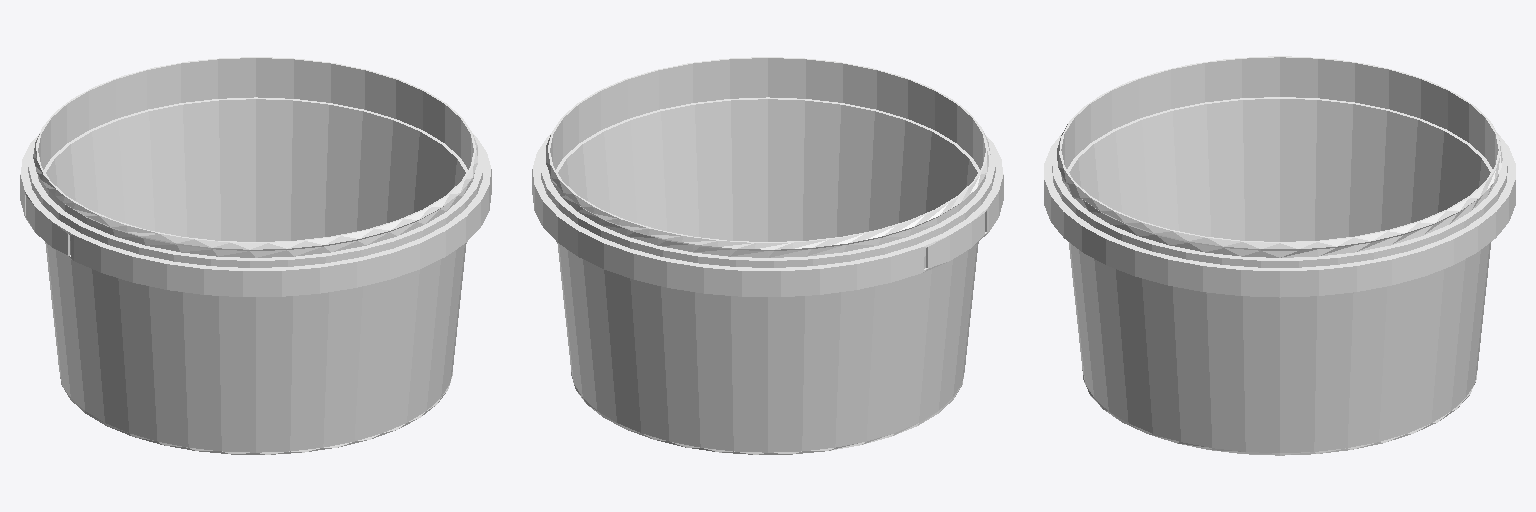
robot.urdf — Container.SLDPRT:
<?xml version="1.0" encoding="utf-8"?>
<!-- This URDF was automatically created by SolidWorks to URDF Exporter! Originally created by [author] ([email redacted]) 
     Commit Version: 1.5.1-0-g916b5db  Build Version: 1.5.7152.31018
     For more information, please see http://wiki.ros.org/sw_urdf_exporter -->
<robot
  name="Container.SLDPRT">
  <link
    name="Container.SLDPRT">
    <inertial>
      <origin
        xyz="8.2775E-05 -7.24179999999871E-06 0.020982"
        rpy="0 0 0" />
      <mass
        value="0.023531" />
      <inertia
        ixx="4.3043E-05"
        ixy="-9.8493E-09"
        ixz="-4.7484E-08"
        iyy="4.2931E-05"
        iyz="-4.15429999999875E-09"
        izz="6.3345E-05" />
    </inertial>
    <visual>
      <origin
        xyz="0 0 0"
        rpy="1.5707963267949 0 0" />
      <geometry>
        <mesh
          filename="meshes/container/Container.SLDPRT.STL" />
      </geometry>
      <material
        name="transparent">
        <color
          rgba="1 1 1 0.32" />
        <texture
          filename="meshes/textures/" />
      </material>
    </visual>
    <collision>
      <origin
        xyz="0 0 0"
        rpy="1.5707963267949 0 0" />
      <geometry>
        <mesh
          filename="meshes/container/Container.SLDPRT.STL" />
      </geometry>
    </collision>
  </link>
</robot>

--- What the picture shows (computed from the rendered views, not written in the file) ---
Views: 3 orthographic renders of the robot side by side, from view 1: azimuth 30°, elevation 25°; view 2: azimuth 150°, elevation 25°; view 3: azimuth 270°, elevation 25°.
Model Container.SLDPRT with 1 links and 0 joints (none), rooted at Container.SLDPRT, posed all joints at 0.
Links seen in each view (by area): view 1: Container.SLDPRT; view 2: Container.SLDPRT; view 3: Container.SLDPRT.
Boxes of the visible links, bbox=[...] form: Container.SLDPRT: bbox=[20, 57, 491, 454]; Container.SLDPRT: bbox=[532, 57, 1003, 454]; Container.SLDPRT: bbox=[1044, 56, 1515, 455].
Bounding box of the posed robot: 0.1232 × 0.1228 × 0.064 m (x, y, z).
1 mesh visuals loaded from 1 distinct referenced files (1 binary STL).